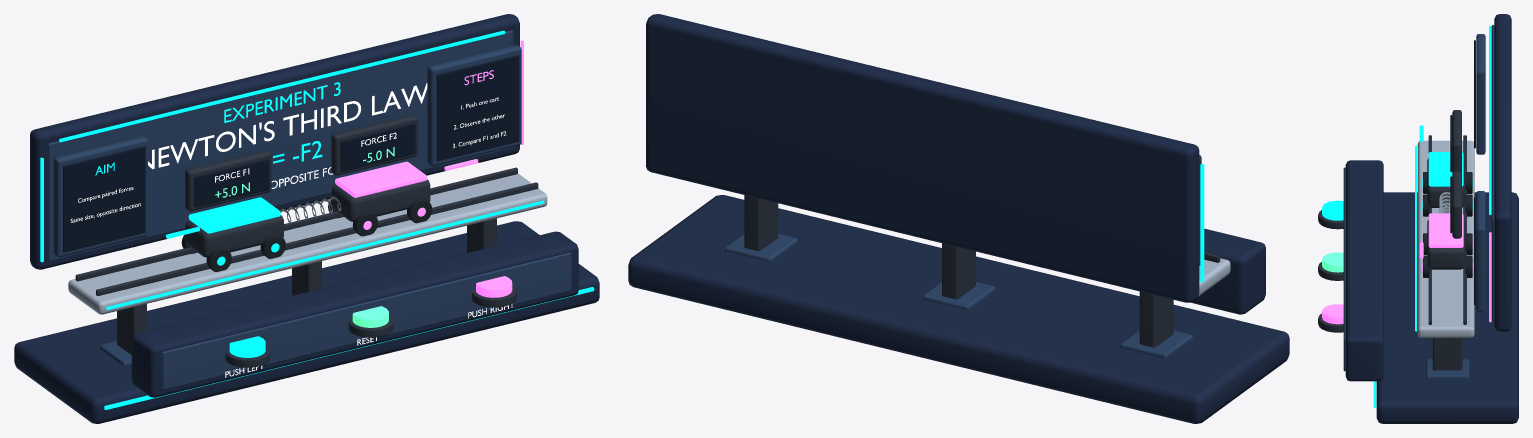
Rendered from NewtonsThirdLawExp.fbx.
3 views of the same model, side by side, from view 1: azimuth 30°, elevation 25°; view 2: azimuth 150°, elevation 25°; view 3: azimuth 270°, elevation 25° (orthographic). The views are drawn at different scales.
Visible parts, largest first — view 1: Backboard Screen, Apparatus Base, Front Control Console, Console Face, Track Deck, Backboard, STEPS Side Screen, AIM Side Screen, Track Guide Rail, STEPS Side Panel, AIM Side Panel, FORCE F2 Screen (+19 smaller); view 2: Backboard, Apparatus Base, Front Control Console, Track Support, Track Support.002, Track Support.001, Support Foot.002, Support Foot, Support Foot.001, Track Deck; view 3: Apparatus Base, Front Control Console, Backboard, Track Deck, AIM Side Panel, STEPS Side Panel, Backboard Screen, Track Support.002, Cart B Violet Top Accent, Cart B Violet Chassis, Cart A Cyan Top Accent, FORCE F2 Display Housing (+18 smaller).
Part boxes in pixels (x1,y1,x2,y2): Backboard Screen: (48, 30, 513, 261); Apparatus Base: (14, 221, 599, 423); Front Control Console: (131, 231, 578, 397); Console Face: (161, 252, 571, 389); Track Deck: (68, 173, 547, 314); Backboard: (30, 14, 519, 269); STEPS Side Screen: (436, 55, 519, 161); AIM Side Screen: (63, 146, 145, 252); Track Guide Rail: (96, 182, 538, 295); STEPS Side Panel: (427, 45, 521, 165); AIM Side Panel: (53, 136, 147, 257); FORCE F2 Screen: (340, 123, 415, 171); Backboard: (646, 14, 1199, 302); Apparatus Base: (628, 195, 1289, 423); Front Control Console: (1190, 228, 1265, 314); Track Support: (1139, 291, 1173, 347); Track Support.002: (744, 195, 778, 250); Track Support.001: (942, 243, 975, 299); Support Foot.002: (724, 234, 797, 261); Support Foot: (1120, 330, 1193, 358); Support Foot.001: (922, 282, 995, 309); Track Deck: (1198, 258, 1230, 296); Apparatus Base: (1376, 192, 1518, 423); Front Control Console: (1345, 160, 1383, 381); Backboard: (1494, 14, 1511, 331); Track Deck: (1417, 140, 1474, 337); AIM Side Panel: (1476, 34, 1485, 154); STEPS Side Panel: (1476, 191, 1485, 311); Backboard Screen: (1491, 25, 1494, 320); Track Support.002: (1432, 338, 1462, 370); Cart B Violet Top Accent: (1428, 213, 1463, 247); Cart B Violet Chassis: (1427, 219, 1464, 269); Cart A Cyan Top Accent: (1428, 152, 1463, 186); FORCE F2 Display Housing: (1452, 171, 1461, 238).
Size of the model in its own units: 640 by 288 by 254.
